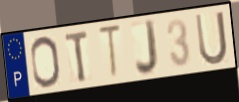3: (166, 17, 192, 70)
J: (134, 18, 160, 78)
O: (29, 34, 62, 90)
T: (97, 23, 124, 82), (64, 28, 91, 85)
U: (193, 9, 229, 68)
